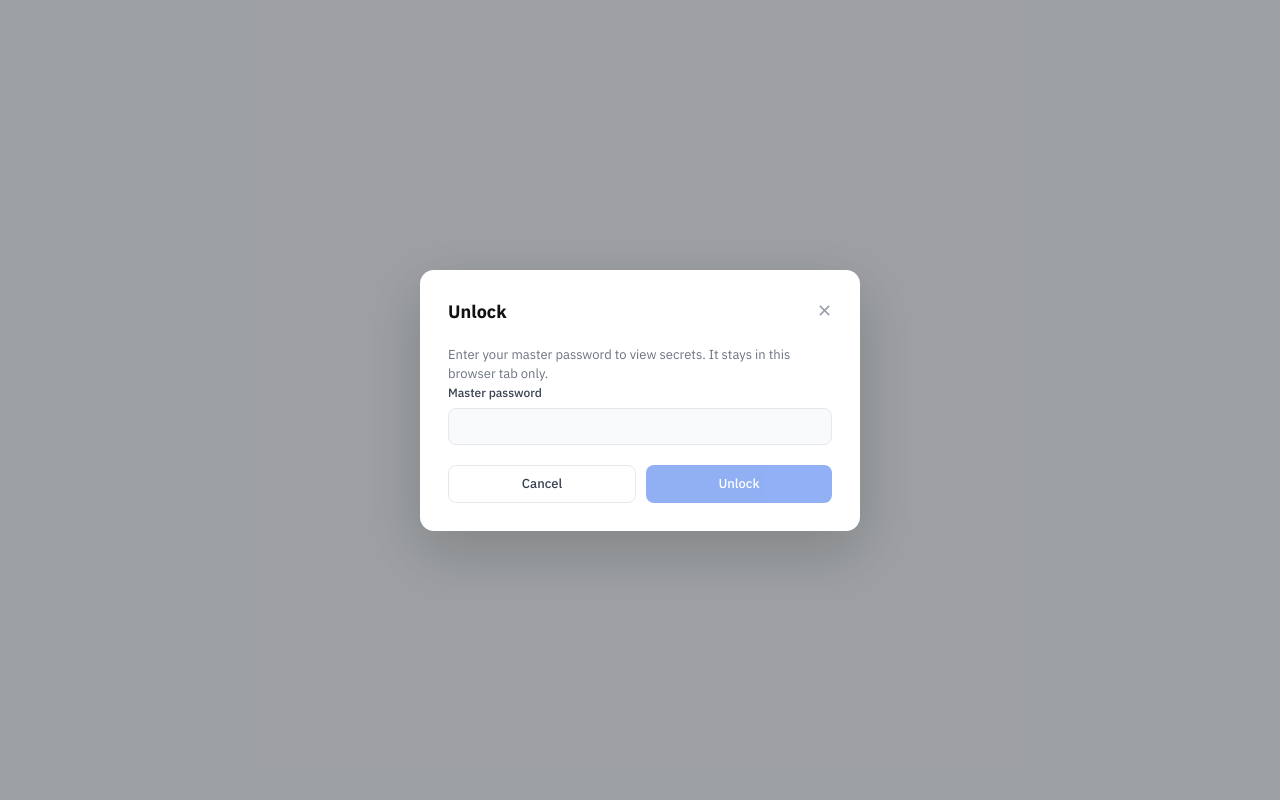
Test: UnlockModal › explains a wrapper the password cannot open instead of «decrypt failed»
The width and height of the screenshot is (1280, 800).
Type "hunter2" into the password field at (640, 426), box left=448, top=408, right=832, bottom=445
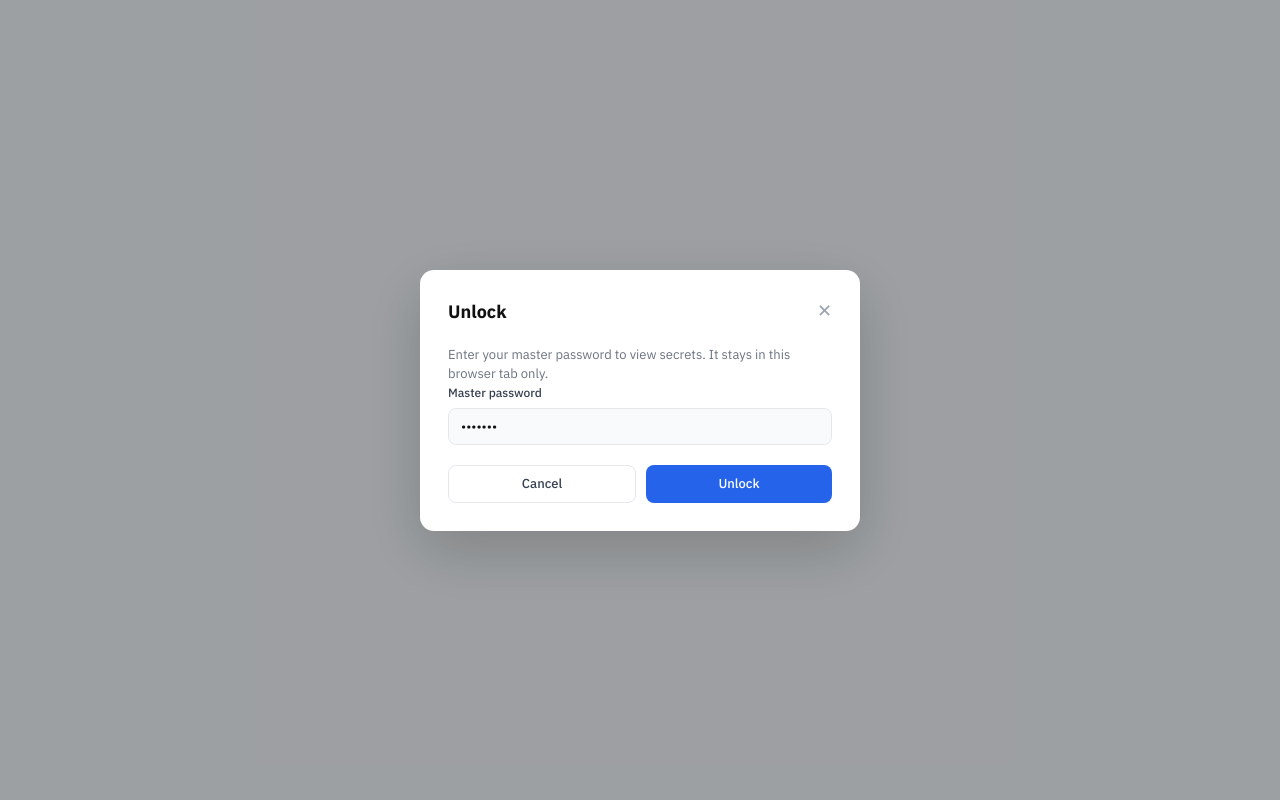
Click the button "Unlock" at (739, 484), box left=646, top=465, right=832, bottom=502
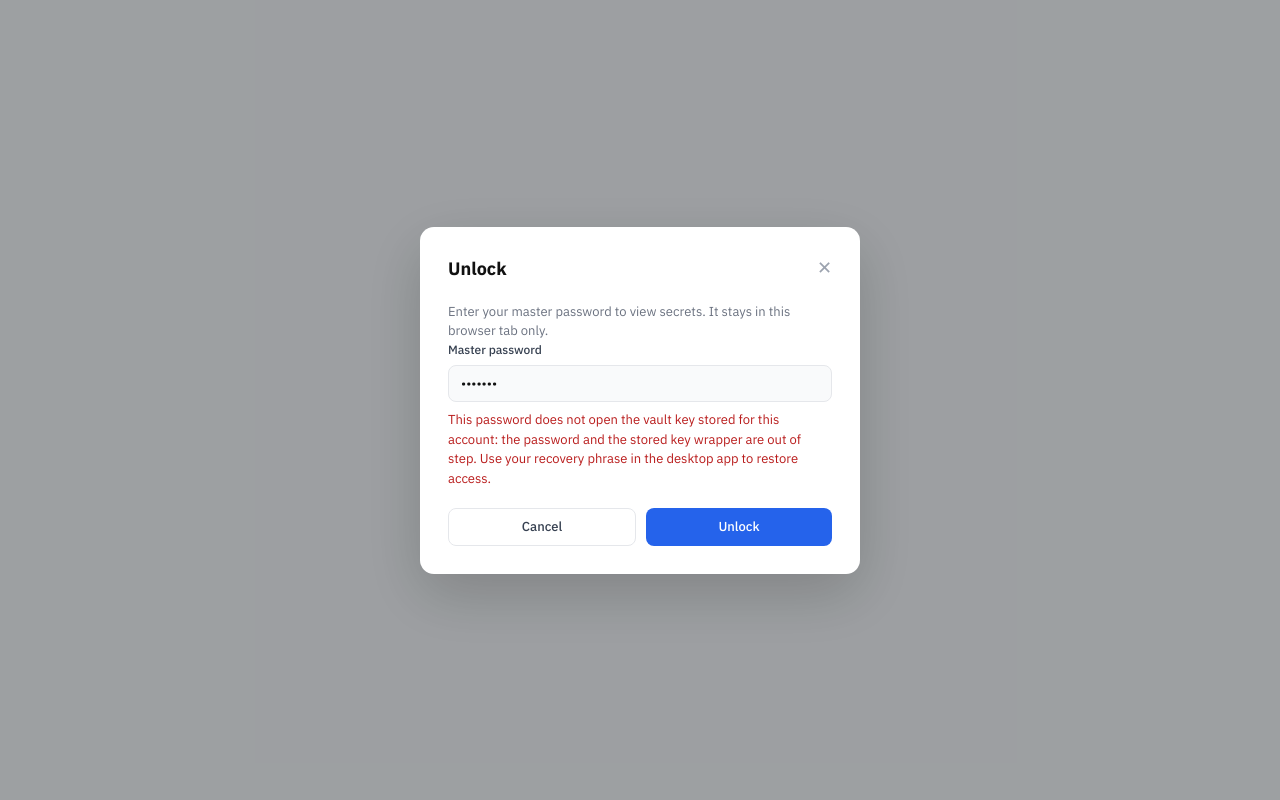
Expected: the text "recovery phrase" is shown, left=448, top=411, right=801, bottom=486
